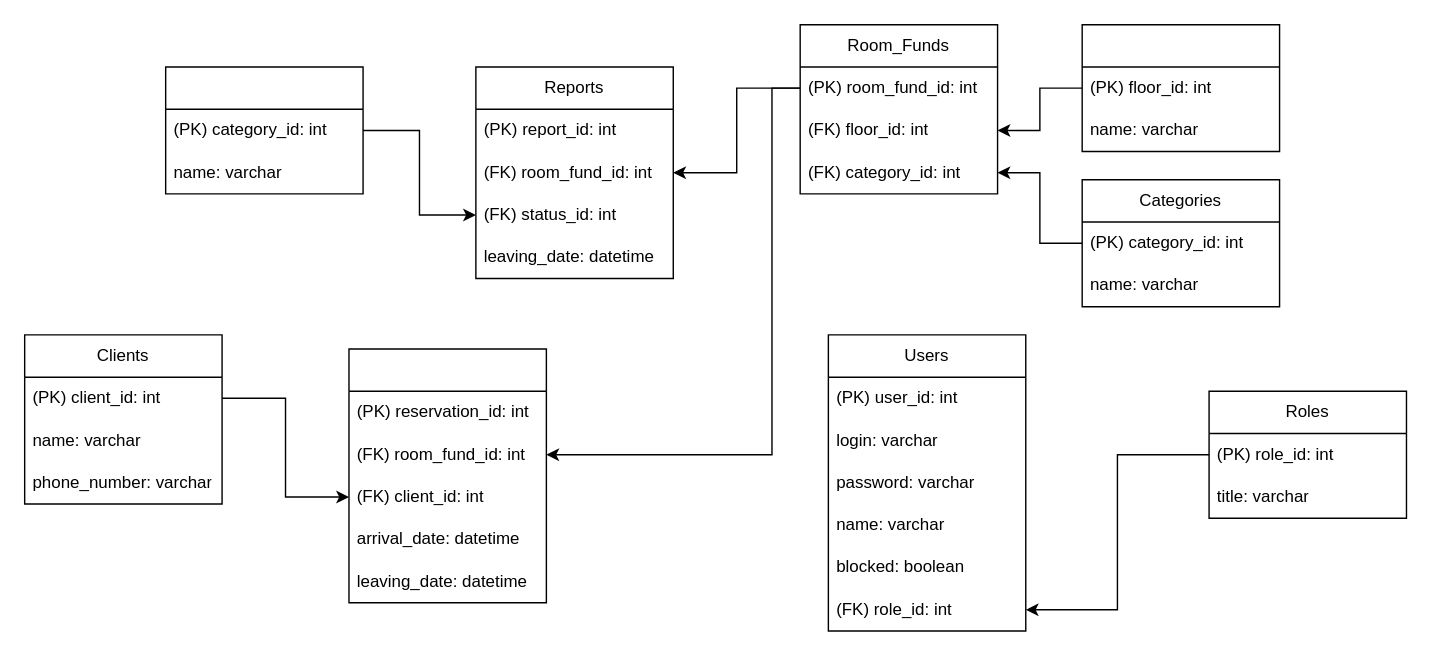
This 1431x656 diagram has some shape labels left out. The shapes that lost their labels are listed below. From the top down, each one's box as (x1, y1, x2, y2) in pixels, then its label:
(1081, 23, 1280, 152): Floors
(164, 66, 363, 194): Statuses
(348, 348, 546, 603): Reservations
